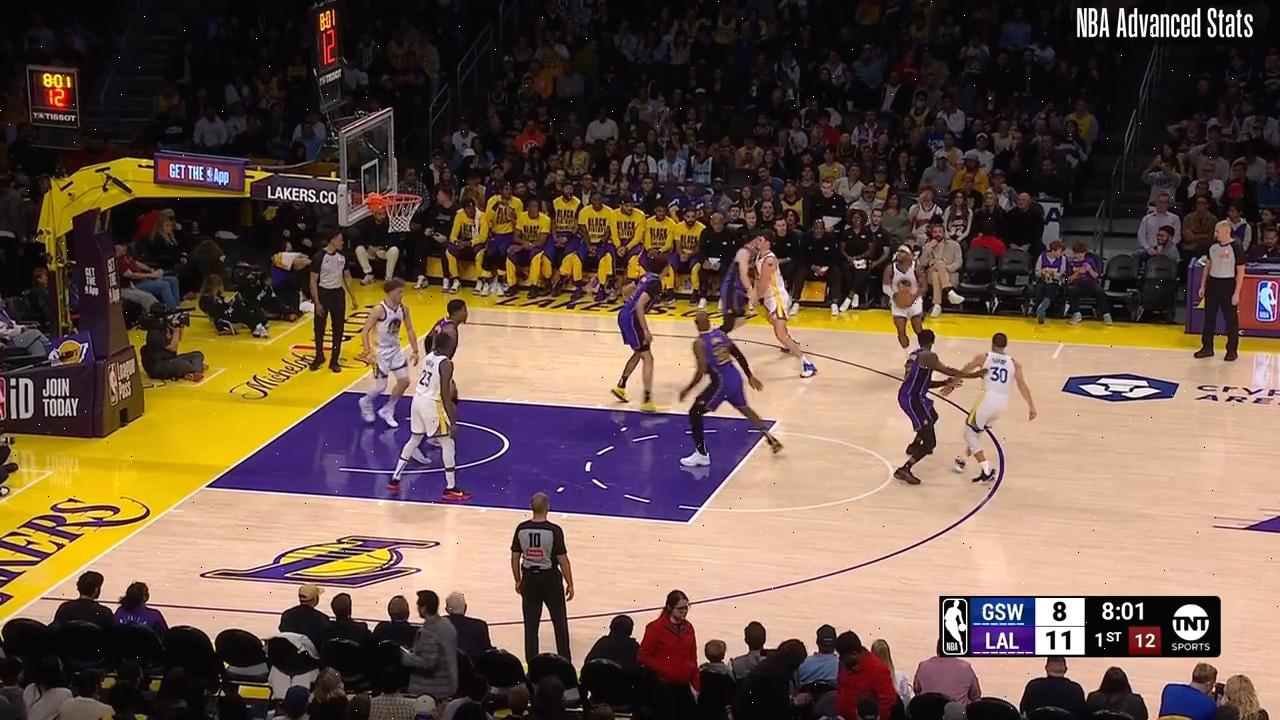basketball: (894, 286, 916, 311)
